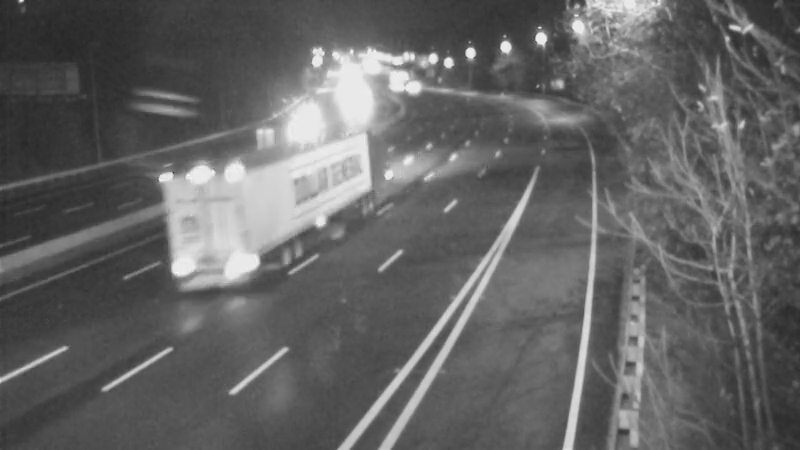vehicle: (167, 190, 247, 270), (283, 102, 333, 152)
